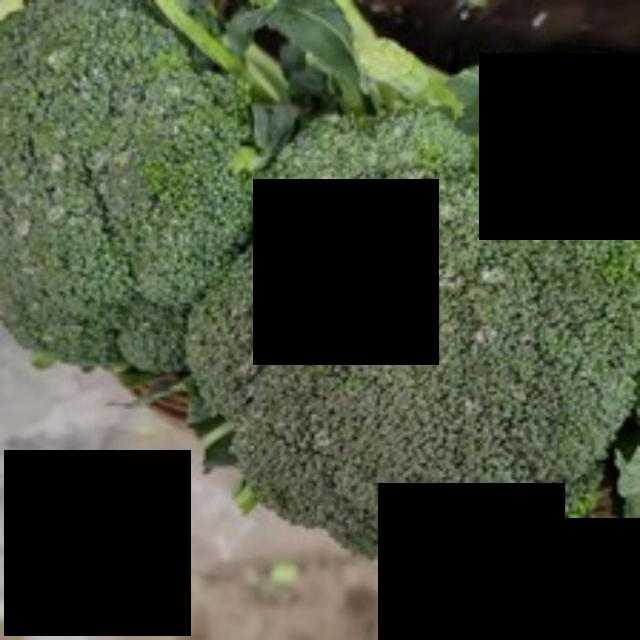broccoli: (171, 88, 637, 582)
